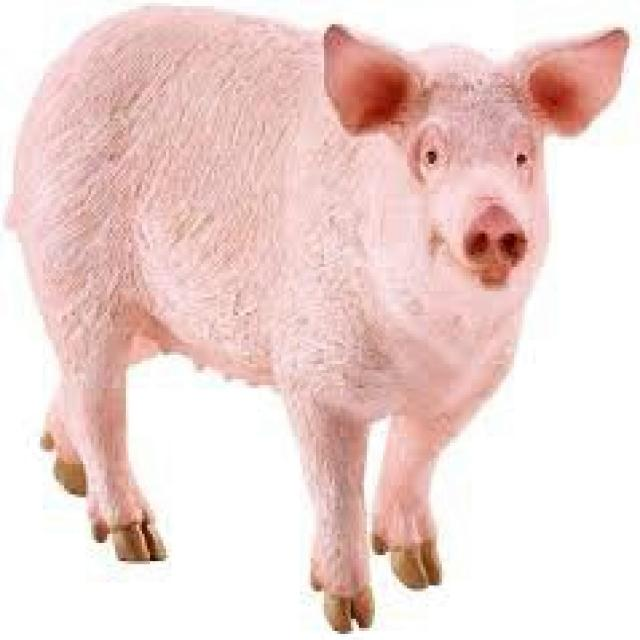pig: (8, 6, 627, 628)
